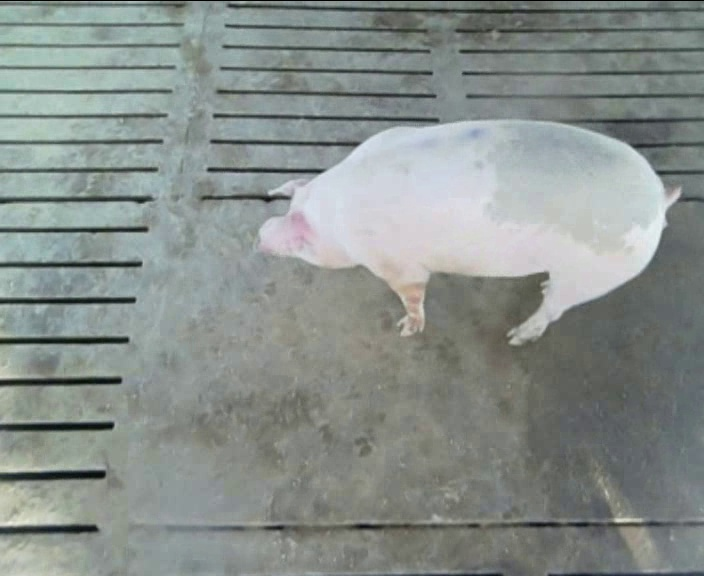pig: (258, 120, 679, 344)
